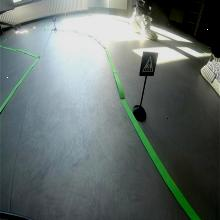crosswalk: (139, 51, 158, 77)
